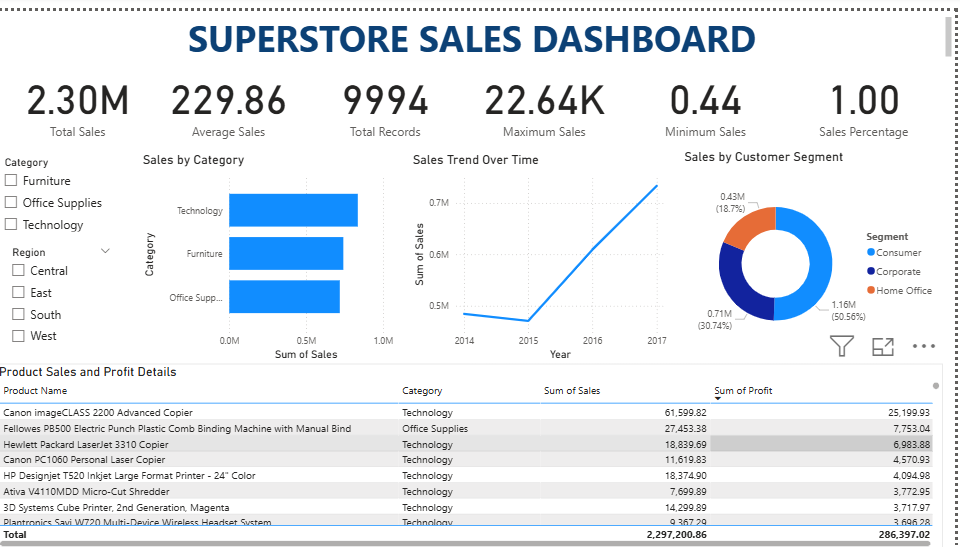

This screenshot's page, from the dashboard's own definition file:
{"tool":"powerbi","page":{"name":"Page 1","canvas":[1280,720],"ordinal":0},"visuals":[{"type":"card","fields":{"Values":["Sample - Superstore.Total Sales"]},"box":[10,54,200,134],"z":0},{"type":"card","fields":{"Values":["Sample - Superstore.Average Sales"]},"box":[210,54,202,134],"z":1000},{"type":"card","fields":{"Values":["Sample - Superstore.Total Records"]},"box":[412,54,216,134],"z":2000},{"type":"card","fields":{"Values":["Sample - Superstore.Maximum Sales"]},"box":[628,54,208,134],"z":3000},{"type":"card","fields":{"Values":["Sample - Superstore.Minimum Sales"]},"box":[842,54,210,134],"z":4000},{"type":"card","fields":{"Values":["Sample - Superstore.Sales Percentage"]},"box":[1052,54,212,134],"z":5000},{"type":"clusteredBarChart","title":"Sales by Category","fields":{"Category":["Sample - Superstore.Category"],"Y":["Sum(Sample - Superstore.Sales)"]},"box":[192,188,344,282],"z":6000},{"type":"lineChart","title":"Sales Trend Over Time","fields":{"Category":["Sample - Superstore.Order Date.Variation.Date Hierarchy.Year"],"Y":["Sum(Sample - Superstore.Sales)"]},"box":[552,188,348,282],"z":7000},{"type":"donutChart","title":"Sales by Customer Segment","fields":{"Category":["Sample - Superstore.Segment"],"Y":["Sum(Sample - Superstore.Sales)"]},"box":[914,184,350,286],"z":8000},{"type":"tableEx","title":"Product Sales and Profit Details","fields":{"Values":["Sample - Superstore.Product Name","Sample - Superstore.Category","Sum(Sample - Superstore.Sales)","Sum(Sample - Superstore.Profit)"]},"box":[0,470,1264,250],"z":9000},{"type":"slicer","fields":{"Values":["Sample - Superstore.Category"]},"box":[0,188,174,120],"z":10000},{"type":"slicer","fields":{"Values":["Sample - Superstore.Region"]},"box":[10,308,156,146],"z":11000},{"type":"textbox","box":[0,0,1280,68],"z":11001}]}

Visuals, with their boxes in screenshot pixels (x1, y1, x2, y2), scaled from the page's 1280x720 canvas onto the 960x547 screenshot:
card - Sample - Superstore.Total Sales: (left=8, top=41, right=158, bottom=143)
card - Sample - Superstore.Average Sales: (left=158, top=41, right=309, bottom=143)
card - Sample - Superstore.Total Records: (left=309, top=41, right=471, bottom=143)
card - Sample - Superstore.Maximum Sales: (left=471, top=41, right=627, bottom=143)
card - Sample - Superstore.Minimum Sales: (left=632, top=41, right=789, bottom=143)
card - Sample - Superstore.Sales Percentage: (left=789, top=41, right=948, bottom=143)
"Sales by Category" clusteredBarChart: (left=144, top=143, right=402, bottom=357)
"Sales Trend Over Time" lineChart: (left=414, top=143, right=675, bottom=357)
"Sales by Customer Segment" donutChart: (left=686, top=140, right=948, bottom=357)
"Product Sales and Profit Details" tableEx: (left=0, top=357, right=948, bottom=546)
slicer - Sample - Superstore.Category: (left=0, top=143, right=130, bottom=234)
slicer - Sample - Superstore.Region: (left=8, top=234, right=124, bottom=345)
textbox: (left=0, top=0, right=959, bottom=52)
